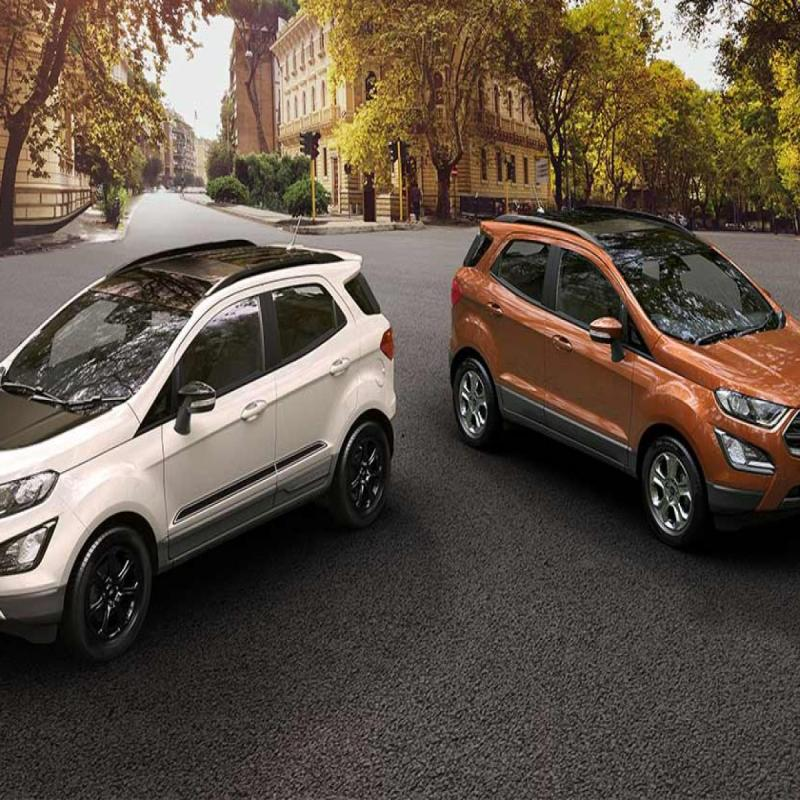car: (0, 221, 406, 667), (449, 192, 800, 596)
